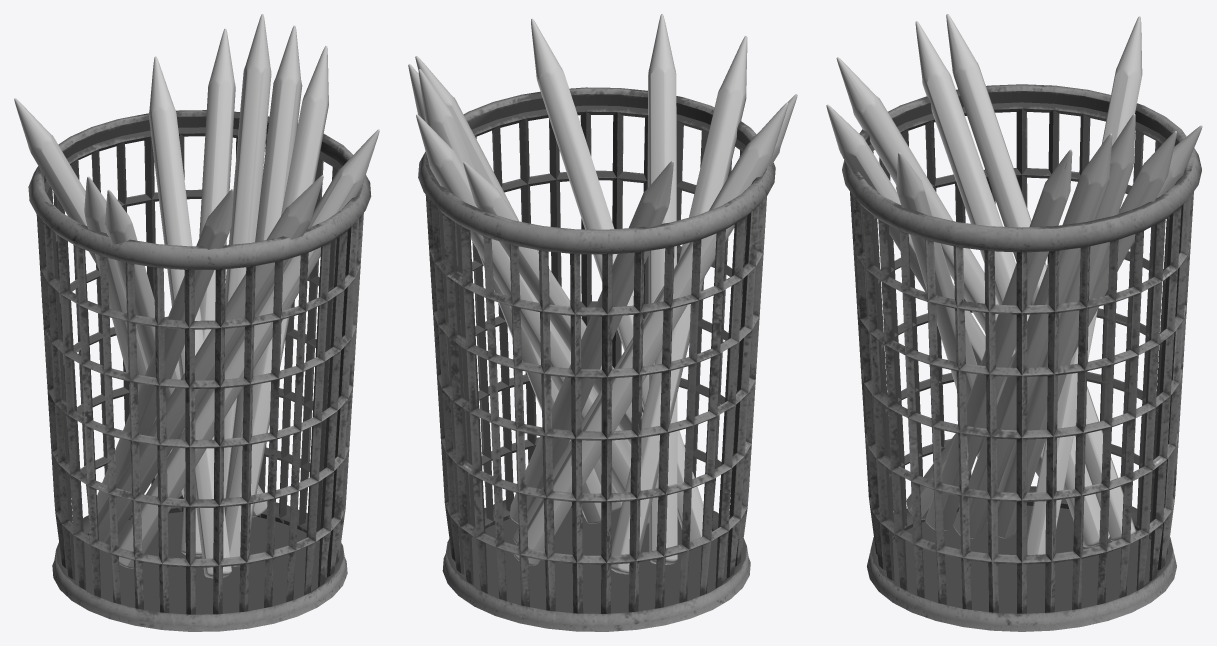
The model's file is Pencil_Holder.fbx.
The picture shows the model from 3 angles, left to right: view 1: azimuth 30°, elevation 25°; view 2: azimuth 150°, elevation 25°; view 3: azimuth 270°, elevation 25°; orthographic projection. The views are drawn at different scales.
Visible parts, largest first — view 1: Pencil_Holder, Pencils; view 2: Pencil_Holder, Pencils; view 3: Pencil_Holder, Pencils.
Boxes of the visible parts, x1=… form: Pencil_Holder: x1=28, y1=110, x2=371, y2=631; Pencils: x1=14, y1=14, x2=379, y2=578; Pencil_Holder: x1=418, y1=87, x2=775, y2=631; Pencils: x1=408, y1=14, x2=797, y2=574; Pencil_Holder: x1=842, y1=84, x2=1201, y2=631; Pencils: x1=826, y1=14, x2=1202, y2=554.
Bounding box in the file's own units: 30.56 × 47.67 × 31.7.
